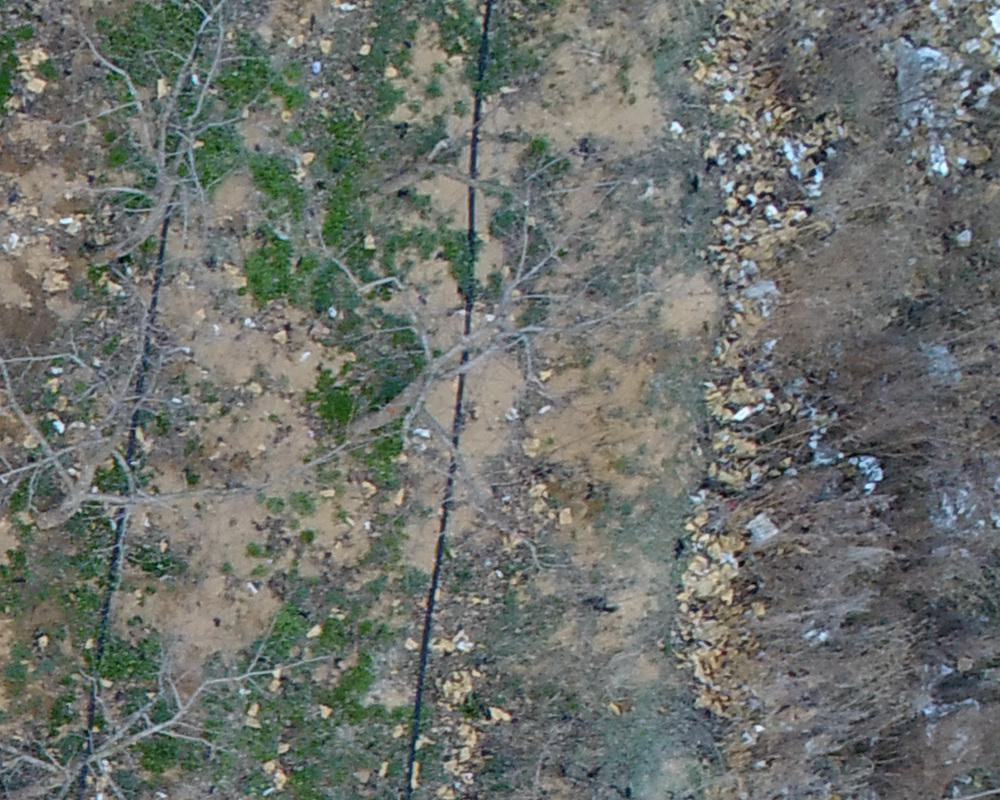apple: (310, 193, 609, 486), (10, 256, 243, 572), (65, 10, 284, 278), (10, 650, 347, 790)
